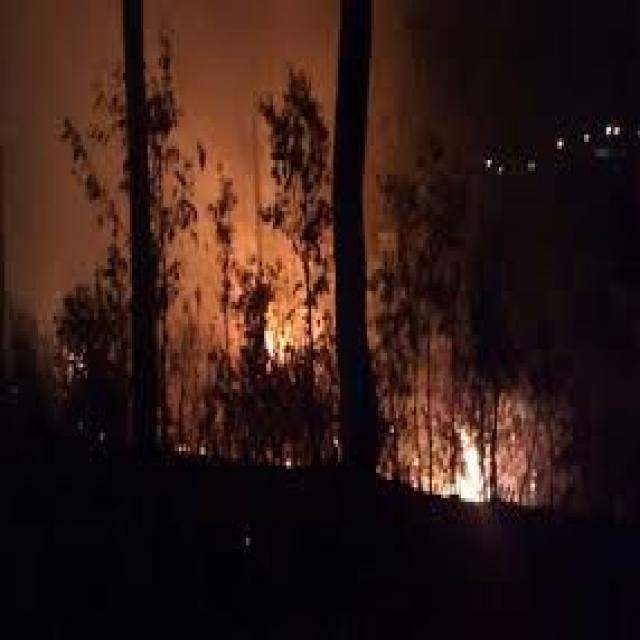Fire: (148, 0, 329, 451), (397, 374, 550, 524)
Smoke: (5, 11, 129, 334)
